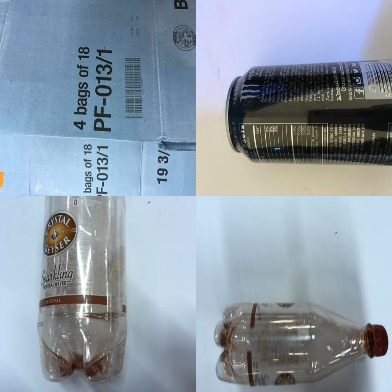cardboard: (1, 1, 195, 195)
metal: (224, 60, 392, 167)
plastic: (37, 195, 127, 384), (213, 302, 388, 387)
